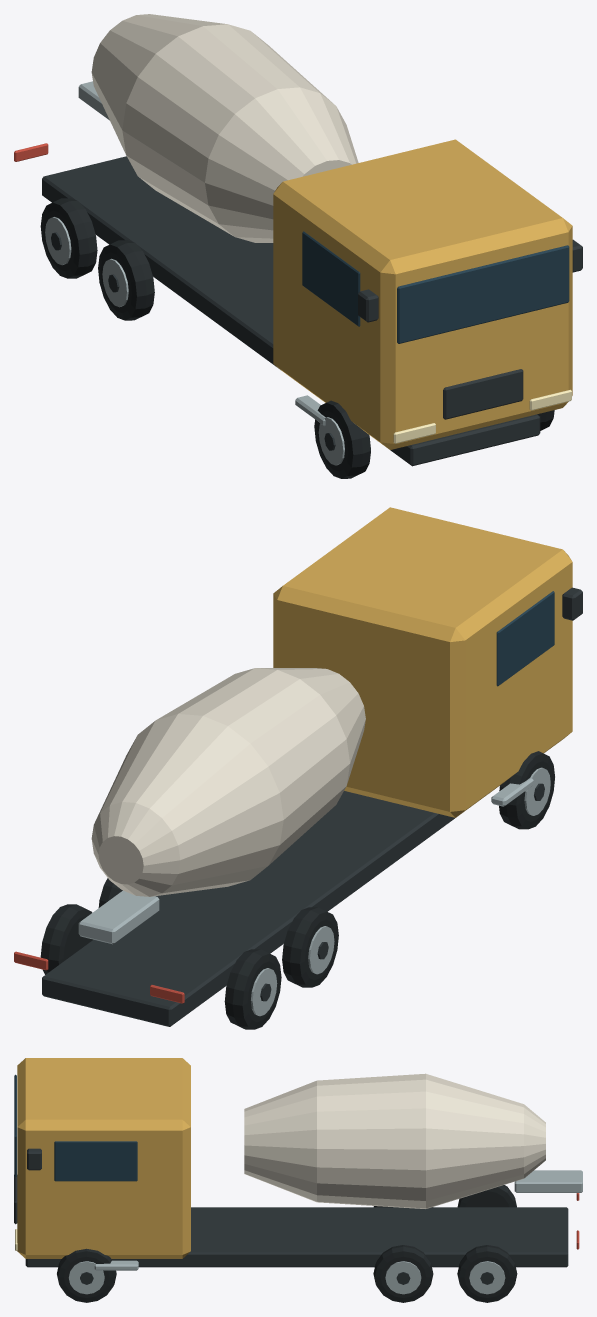
Rendered from truck-mixer-04.glb.
3 views of the same model, one above another, from view 1: azimuth 30°, elevation 25°; view 2: azimuth 150°, elevation 25°; view 3: azimuth 270°, elevation 25° (orthographic). The views are drawn at different scales.
Visible parts, largest first — view 1: Cab, MixerDrum, Chassis, Glass_Windscreen, CabWindow, Tyre_2R, Tyre_RR, Grille, Tyre_FR, Rim_RR, Rim_2R, Rim_FR (+1 smaller); view 2: Cab, MixerDrum, Chassis, CabWindow, Tyre_2R, Tyre_RR, DischargeChute, Tyre_2L, Tyre_FR, Rim_2R, Rim_RR, Rim_FR; view 3: MixerDrum, Cab, Chassis, CabWindow.001, Tyre_2L, Tyre_RL, Tyre_FL, DischargeChute, Tyre_2R, Rim_2L, Rim_RL, Rim_FL (+2 smaller).
Part boxes in pixels (left/top/right/bottom): Cab: left=273, top=139, right=572, bottom=449; MixerDrum: left=91, top=14, right=358, bottom=242; Chassis: left=42, top=156, right=540, bottom=466; Glass_Windscreen: left=397, top=245, right=569, bottom=343; CabWindow: left=302, top=231, right=360, bottom=326; Tyre_2R: left=40, top=198, right=97, bottom=278; Tyre_RR: left=98, top=240, right=154, bottom=320; Grille: left=443, top=369, right=523, bottom=419; Tyre_FR: left=314, top=400, right=370, bottom=478; Rim_RR: left=102, top=258, right=128, bottom=307; Rim_2R: left=45, top=217, right=71, bottom=265; Rim_FR: left=318, top=417, right=344, bottom=465; Cab: left=273, top=507, right=572, bottom=817; MixerDrum: left=91, top=668, right=365, bottom=896; Chassis: left=42, top=791, right=454, bottom=1026; CabWindow: left=496, top=591, right=554, bottom=686; Tyre_2R: left=224, top=949, right=281, bottom=1029; Tyre_RR: left=282, top=907, right=338, bottom=987; DischargeChute: left=78, top=890, right=159, bottom=944; Tyre_2L: left=40, top=904, right=92, bottom=974; Tyre_FR: left=499, top=751, right=554, bottom=829; Rim_2R: left=251, top=968, right=277, bottom=1016; Rim_RR: left=308, top=926, right=334, bottom=974; Rim_FR: left=524, top=767, right=550, bottom=815; MixerDrum: left=244, top=1073, right=545, bottom=1208; Cab: left=17, top=1058, right=190, bottom=1258; Chassis: left=25, top=1207, right=568, bottom=1267; CabWindow.001: left=54, top=1141, right=137, bottom=1181; Tyre_2L: left=457, top=1245, right=517, bottom=1302; Tyre_RL: left=373, top=1245, right=433, bottom=1302; Tyre_FL: left=57, top=1248, right=116, bottom=1302; DischargeChute: left=514, top=1170, right=582, bottom=1192; Tyre_2R: left=457, top=1185, right=516, bottom=1207; Rim_2L: left=469, top=1261, right=505, bottom=1294; Rim_RL: left=385, top=1261, right=421, bottom=1294; Rim_FL: left=68, top=1261, right=104, bottom=1294.
Size of the model in its own units: 2.69 by 3.05 by 8.34.
